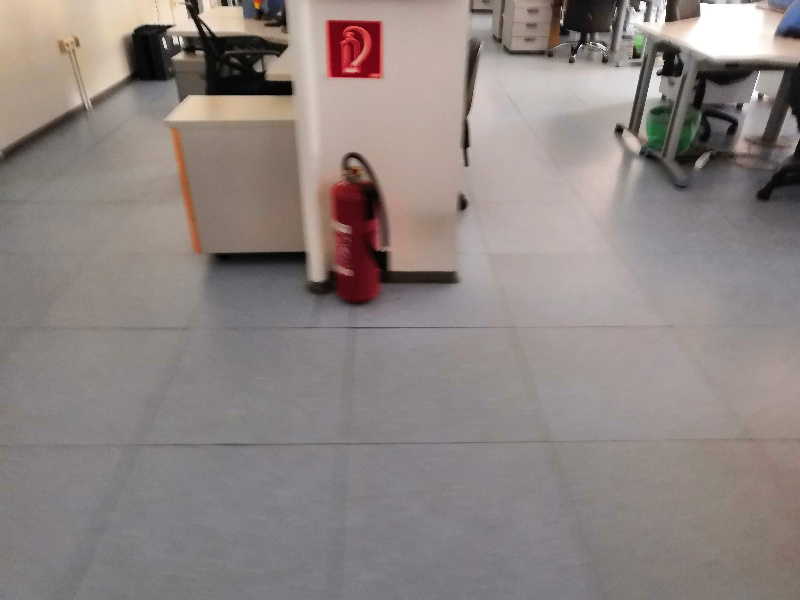vataparat: (330, 154, 390, 305)
